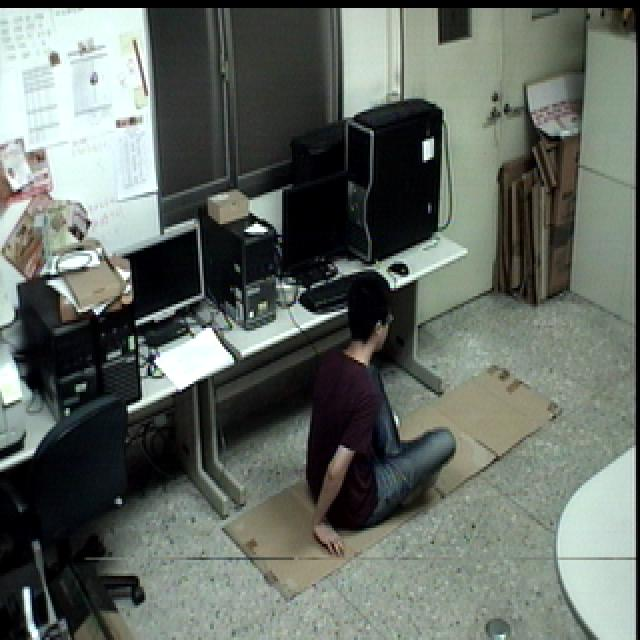sit: (298, 266, 466, 559)
